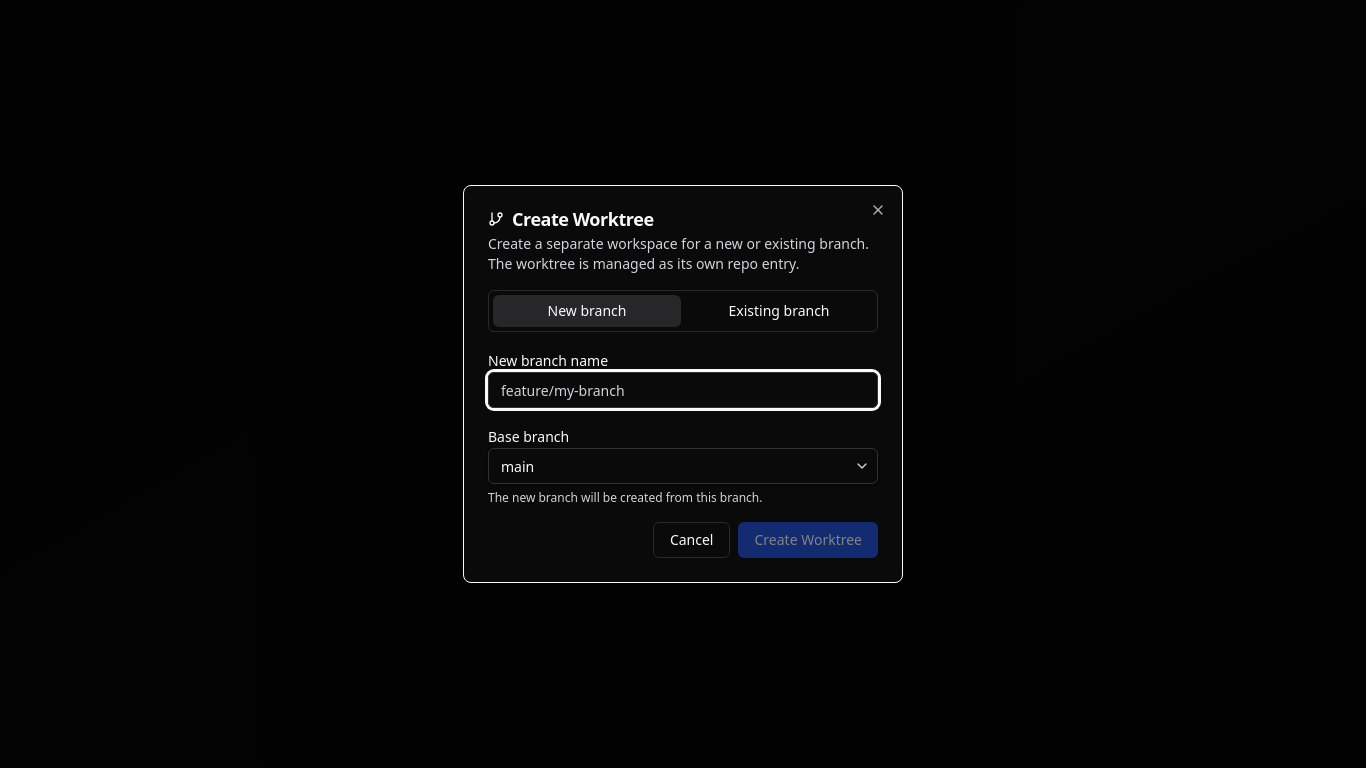
Test: CreateWorktreeDialog › deduplicates remote candidates that share a short name across remotes
What coordinates should you click on to do the following:
click the button "Existing branch"
I would click on:
 (779, 311)
Its box is [685,295,873,327].
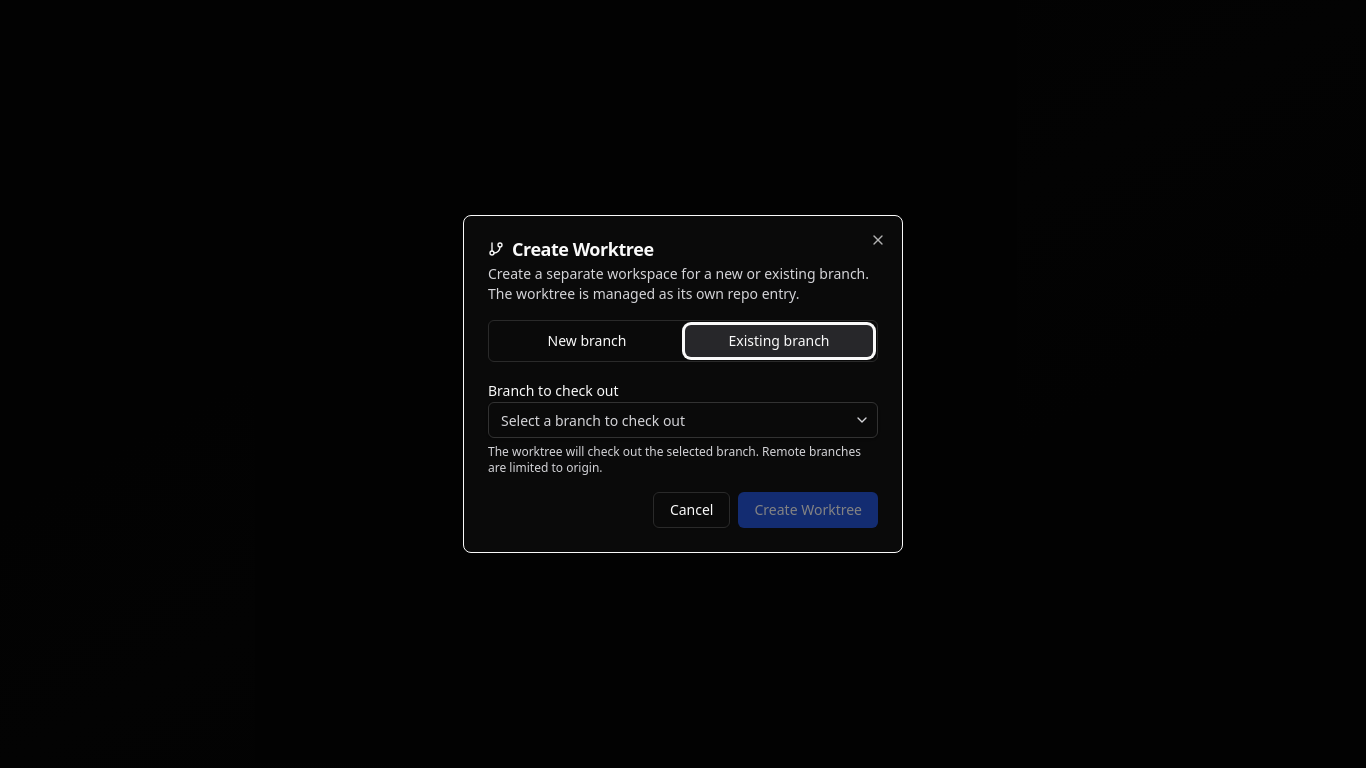
What coordinates should you click on to do the following:
click the dropdown labelled "branch to check out"
I would click on:
 (683, 420)
Its box is [488,402,878,438].
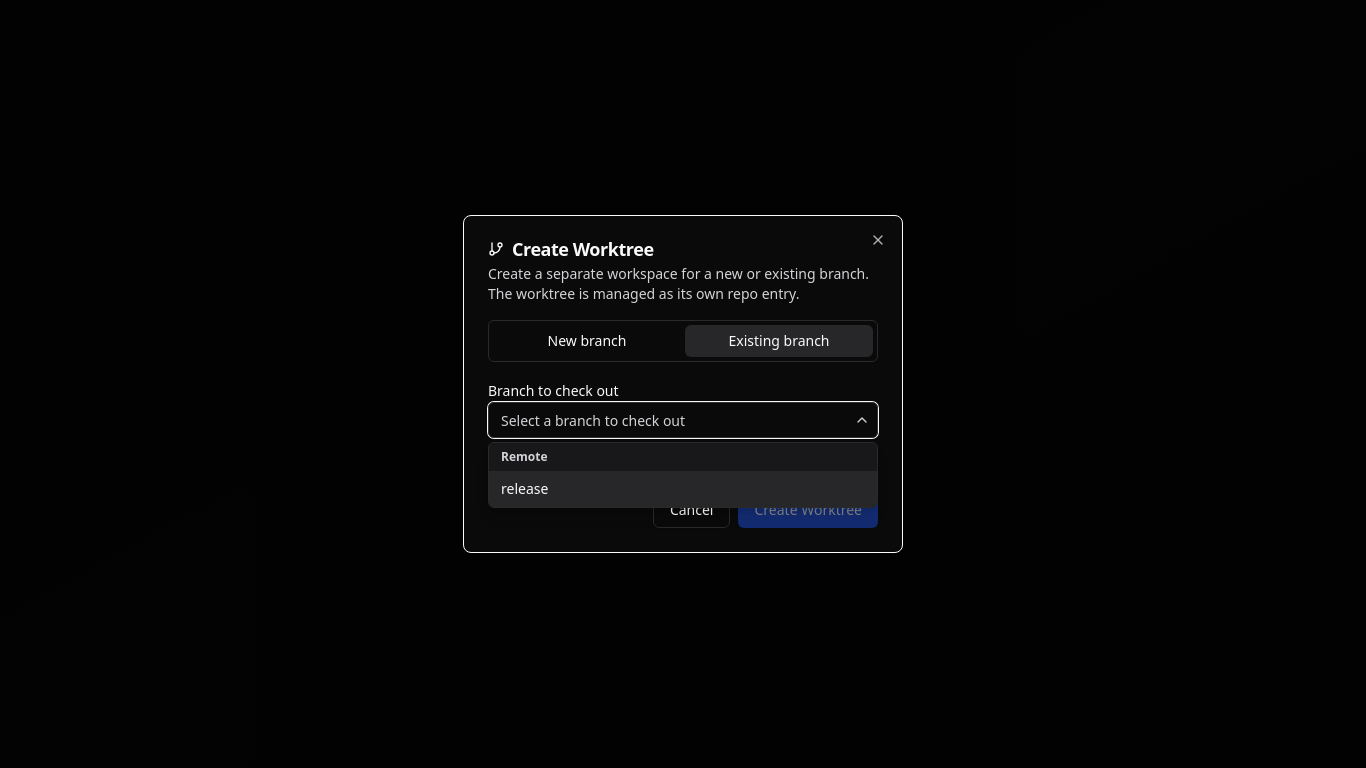
expect the number of options "release" is 1: met, box [489,471,877,507]
